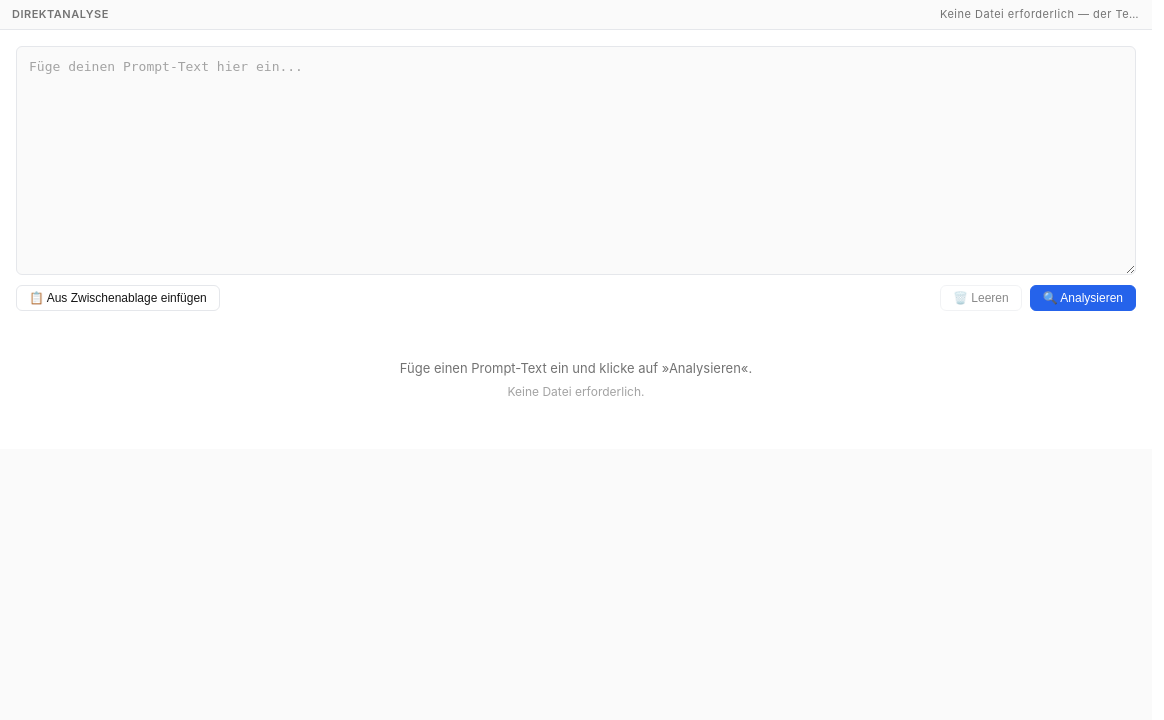
Test: PastePromptAnalyzer › shows classification result after analysis
Type "A test content for analysis" into the text box with placeholder "Füge deinen Prompt-Text hier ein..." at x=576, y=160, box top-left (16, 46), bottom-right (1136, 276)
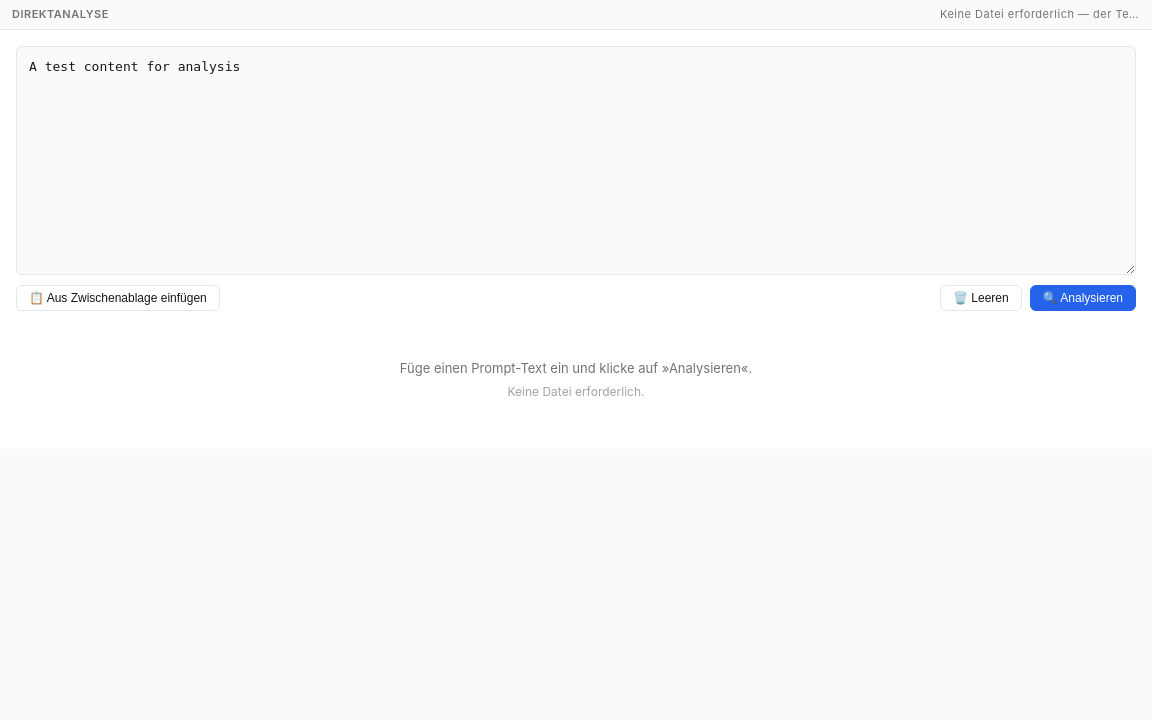
Click the button "🔍 Analysieren" at x=1083, y=298, box top-left (1030, 286), bottom-right (1136, 312)
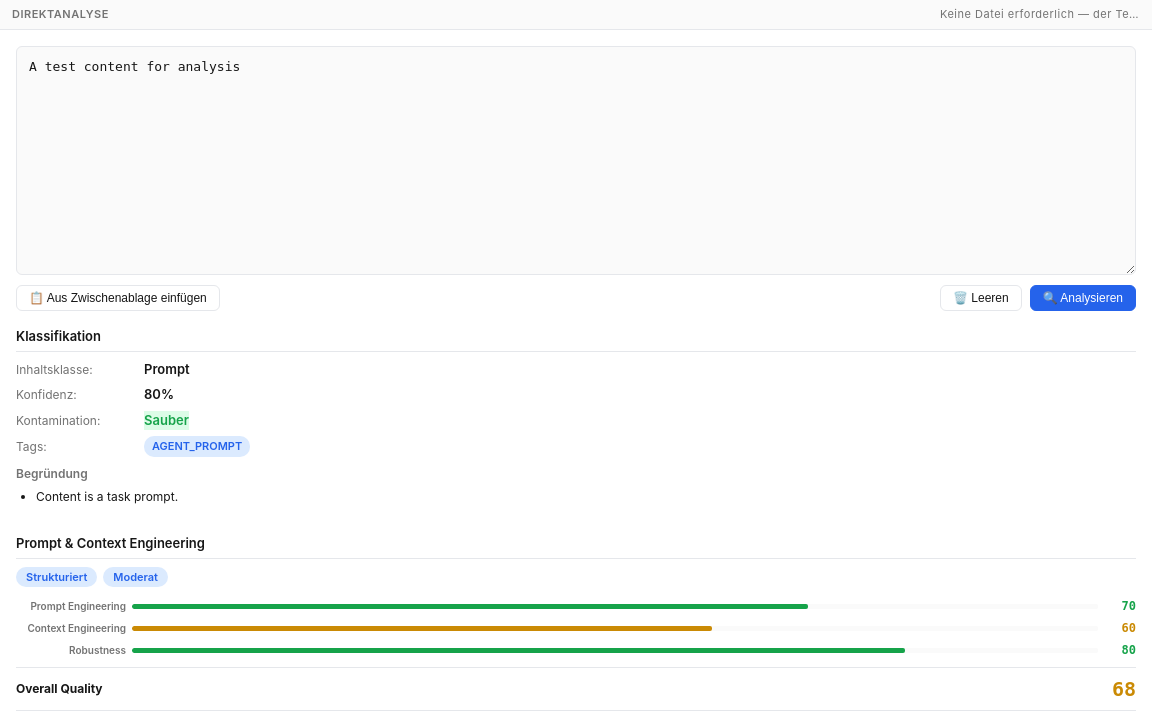
Expected: the heading "Prompt & Context Engineering" is shown, top-left (16, 534), bottom-right (1136, 559)
